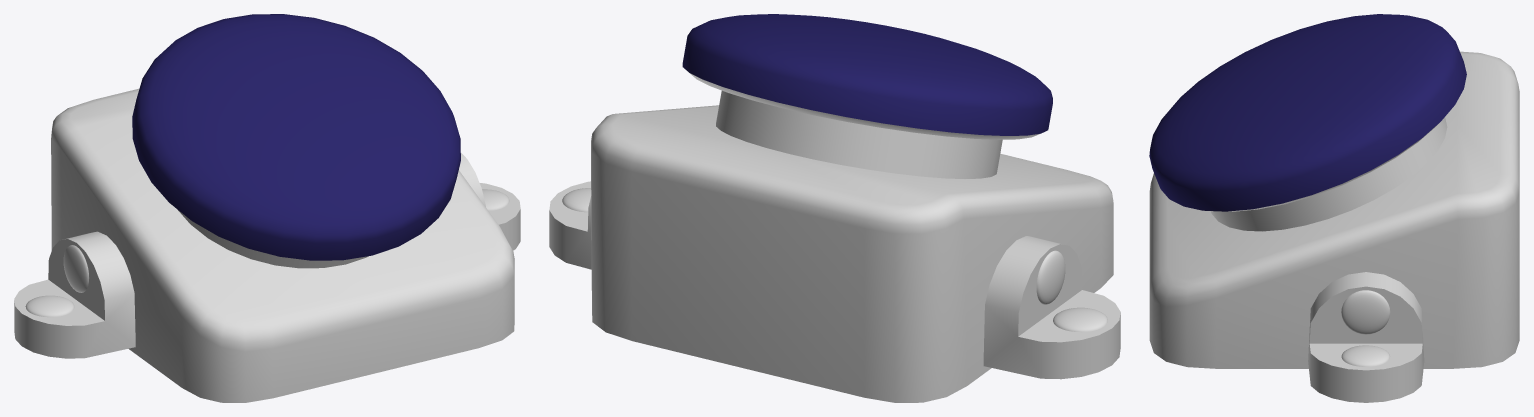
The model's file is OBJ_Bouton.fbx.
3 views of the same model, side by side, from view 1: azimuth 30°, elevation 25°; view 2: azimuth 150°, elevation 25°; view 3: azimuth 270°, elevation 25° (orthographic). The views are drawn at different scales.
Parts seen in each view (by area): view 1: Box036, Object005; view 2: Box036, Object005; view 3: Box036, Object005.
Boxes of the visible parts, box(x1,y1,x2,y2) form: Box036: box(14, 88, 520, 402); Object005: box(132, 14, 460, 268); Box036: box(549, 105, 1120, 402); Object005: box(682, 14, 1052, 178); Box036: box(1149, 51, 1519, 402); Object005: box(1149, 14, 1466, 231).
Size of the model in its own units: 30.06 by 14.37 by 19.7.
